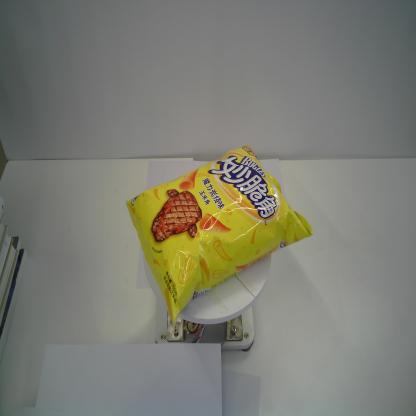Puffed Food: (124, 144, 315, 327)
